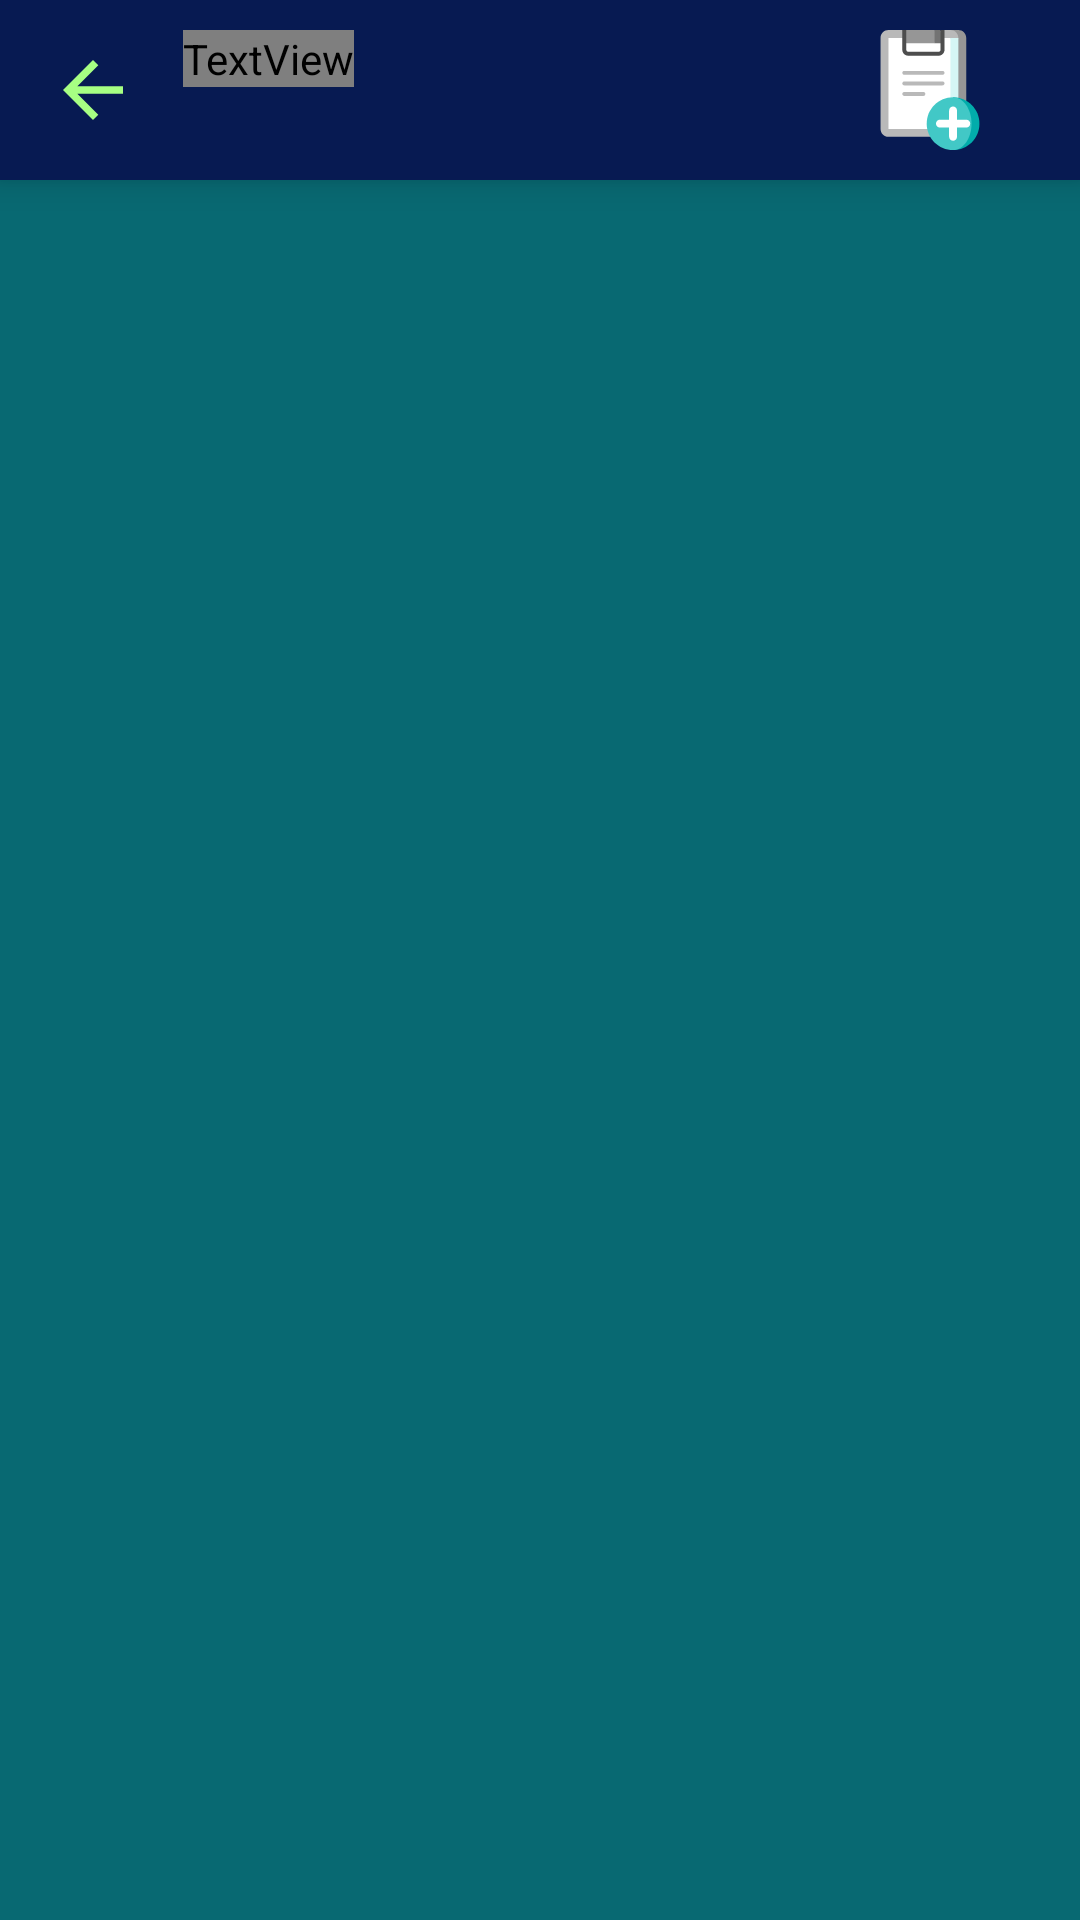

Screen size 1080x1920. Icon name, then its box in pixels as [x1, y1, x2, y2]:
add: [880, 30, 980, 150]
arrow back: [63, 60, 123, 120]
